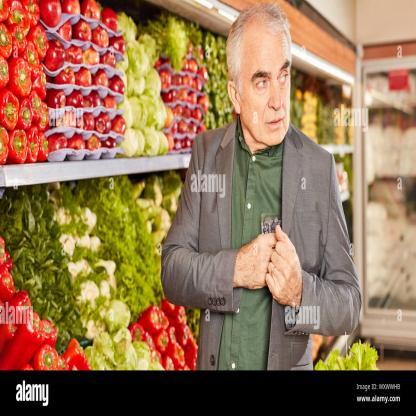Shoplifting: (178, 16, 402, 370)
